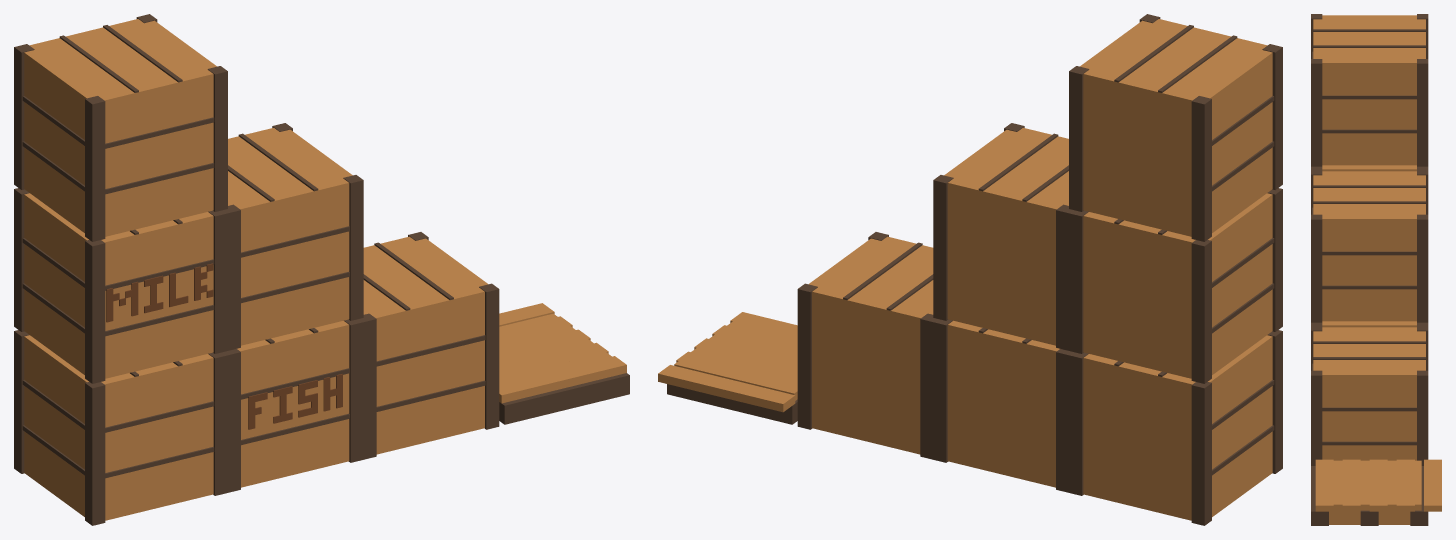
The model's file is CatCafe_Alley_CrateStack.fbx.
The picture shows the model from 3 angles, left to right: view 1: azimuth 30°, elevation 25°; view 2: azimuth 150°, elevation 25°; view 3: azimuth 270°, elevation 25°; orthographic projection. The views are drawn at different scales.
Parts seen in each view (by area): view 1: CatCafe_Alley_CrateStack; view 2: CatCafe_Alley_CrateStack; view 3: CatCafe_Alley_CrateStack.
Boxes of the visible parts, left/top/right/bottom form: CatCafe_Alley_CrateStack: left=14, top=14, right=629, bottom=525; CatCafe_Alley_CrateStack: left=658, top=14, right=1282, bottom=525; CatCafe_Alley_CrateStack: left=1311, top=14, right=1441, bottom=525.
Bounding box in the file's own units: 10.3 × 7.74 × 2.9.
Materials: 1 (1 with a texture image).
